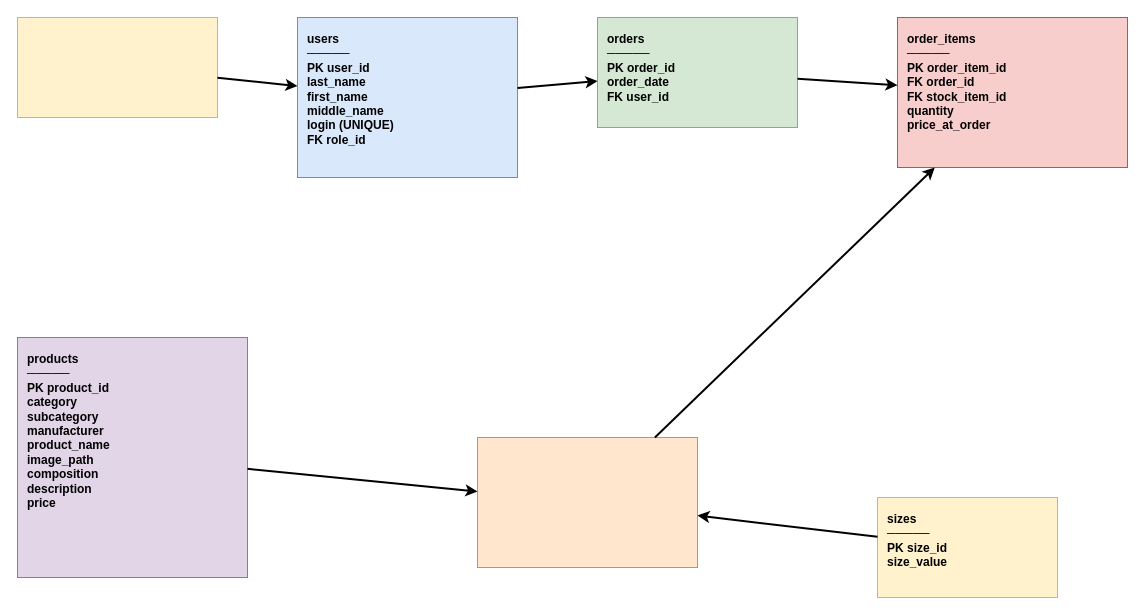
The diagram is 1145 pixels wide and 615 high, and some of its shapes have lost their labels. The shapes that lost their labels are listed below. From the top down, each one's centre as x and y in pixels, then its label:
At pixel 117 67: "roles ───── PK role_id role_name".
At pixel 587 502: "stock_items ───── PK stock_item_id FK product_id FK size_id quantity".
